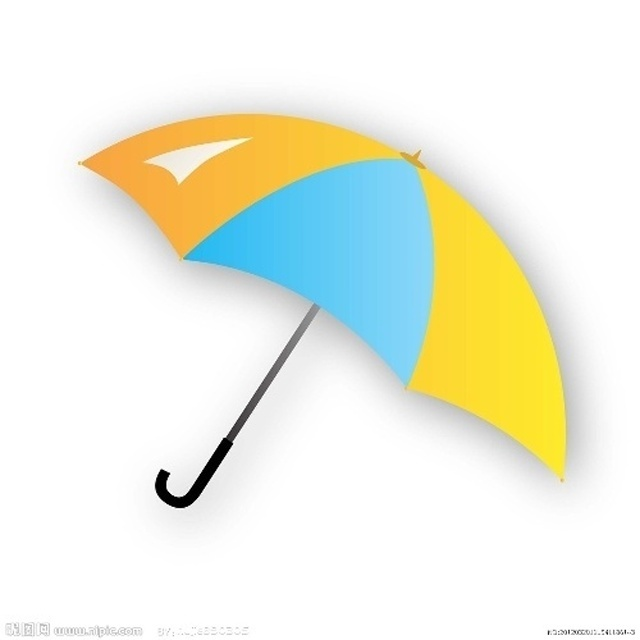umbrella: (75, 112, 569, 511)
